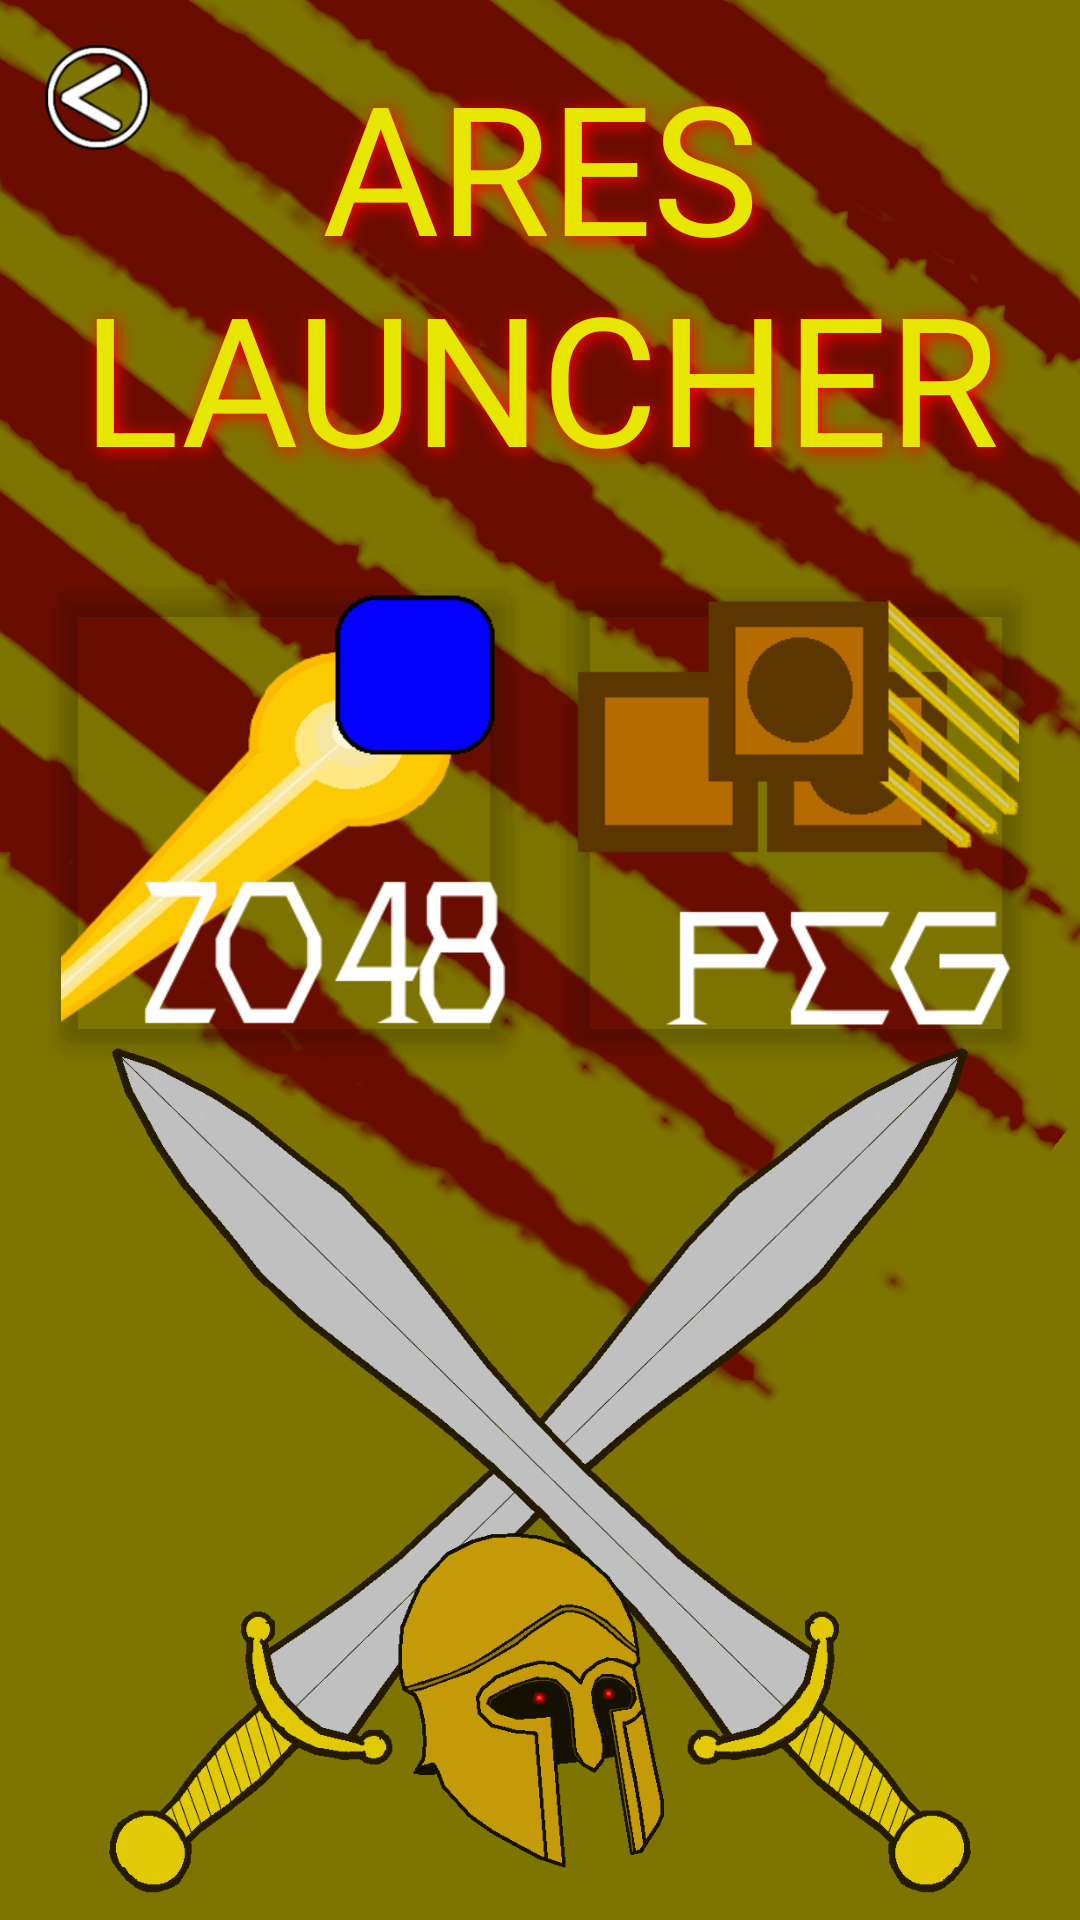

Locate icon controls on the screen. Image size 1080w x 1920h, boxes as [left=x1, top=y1, right=x2, bottom=y2].
back: [left=45, top=45, right=150, bottom=150]
